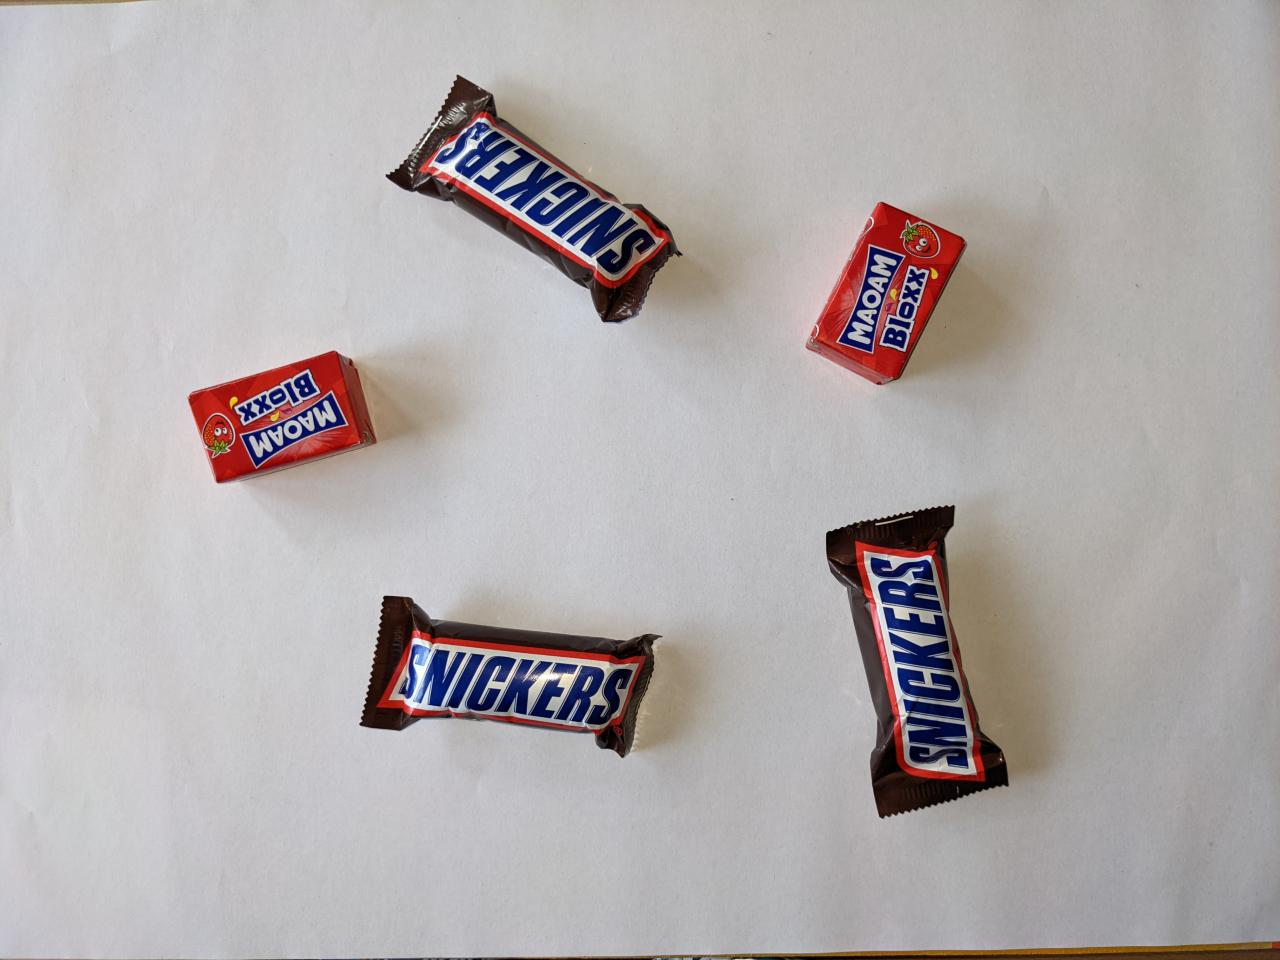MAOAM: (797, 194, 979, 392), (182, 343, 386, 492)
Snickers: (376, 68, 690, 328), (813, 495, 1020, 828), (351, 585, 670, 763)
